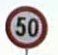limite 50: (4, 5, 47, 47)
